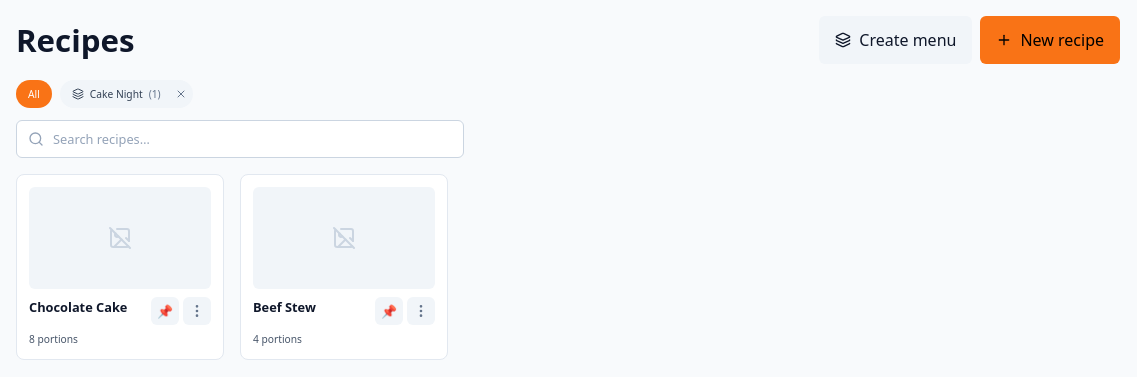
RecipesLibrary › clicking a menu chip filters the grid to that menu and All resets
Expected: the link "Beef Stew" is shown, [253,298,316,316]
Click the button with test id "recipes-filter-chip-m_seed_1".
click(114, 94)  # box [60,80,169,108]
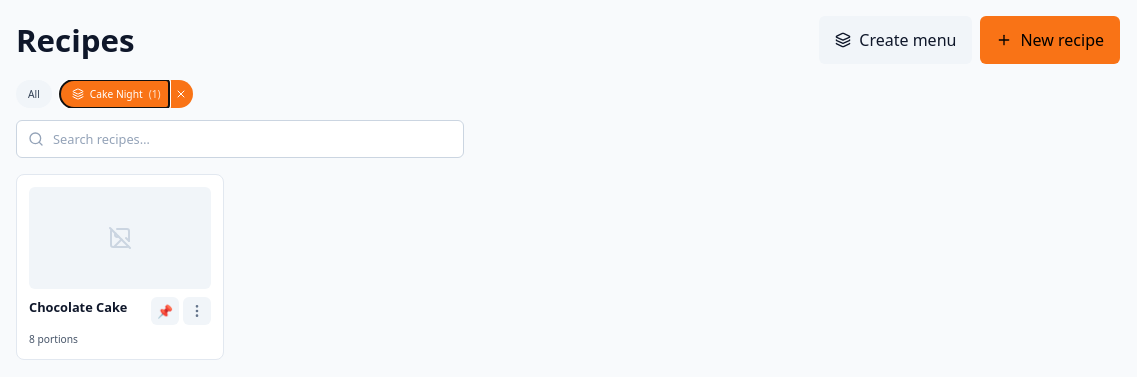
Expected: the link "Chocolate Cake" is shown, [29,298,127,316]
Now the link "Beef Stew" is gone
Click the button with test id "recipes-filter-chip-all".
click(34, 94)  # box [16,80,52,108]
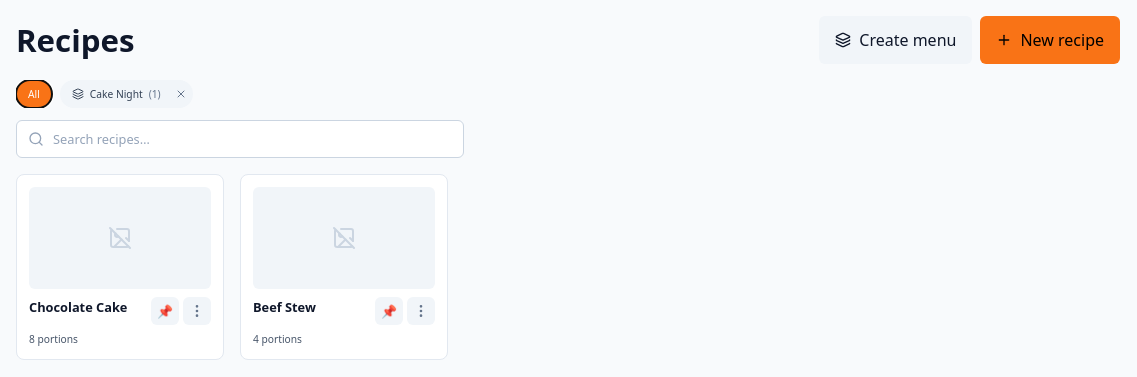
Expected: the link "Chocolate Cake" is shown, [29,298,127,316]
Now the link "Beef Stew" is shown, box [253,298,316,316]
